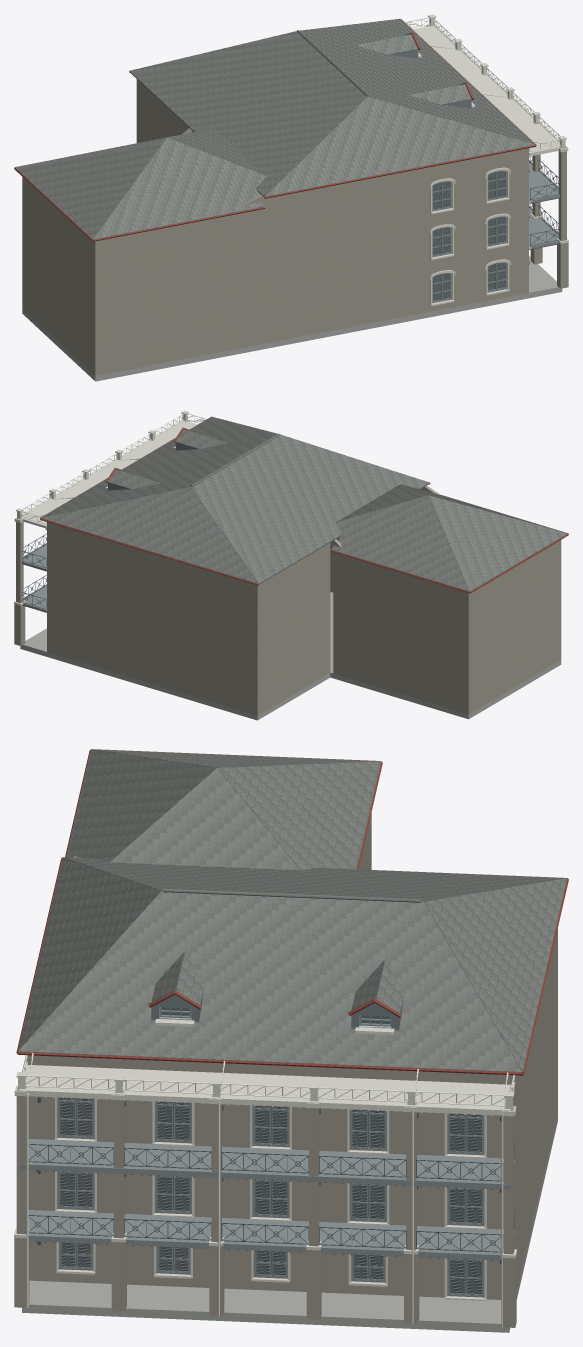
File: xuhui-zikawei-south-building-web.glb
3 renders of one model, top to bottom at view 1: azimuth 30°, elevation 25°; view 2: azimuth 150°, elevation 25°; view 3: azimuth 270°, elevation 25°, orthographic. The views are drawn at different scales.
Size of the model in its own units: 41.05 by 16.41 by 26.53.
15 materials, 1 textured.
